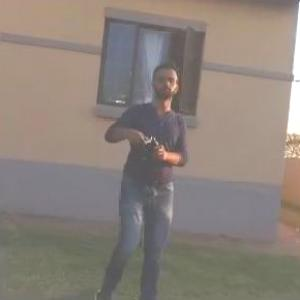follow: (93, 54, 200, 299)
